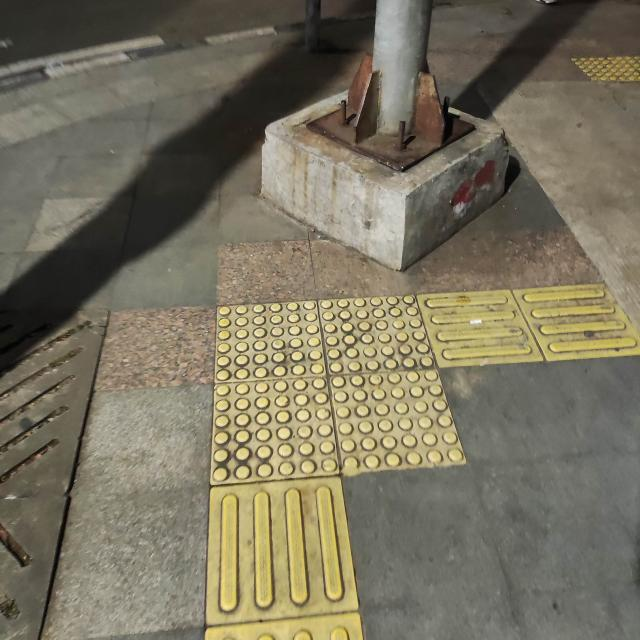kanan: (142, 244, 626, 570)
